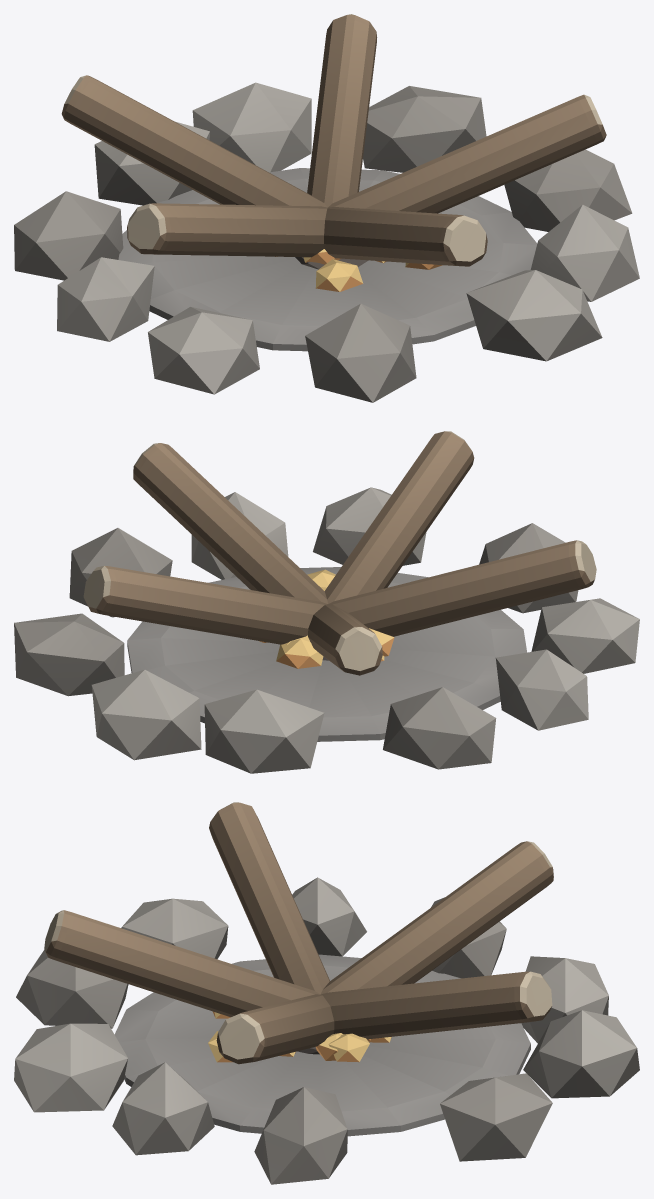
File: campfire.glb
The picture shows the model from 3 angles, top to bottom: view 1: azimuth 30°, elevation 25°; view 2: azimuth 150°, elevation 25°; view 3: azimuth 270°, elevation 25°; orthographic projection. The views are drawn at different scales.
Parts seen in each view (by area): view 1: campfire; view 2: campfire; view 3: campfire.
Boxes of the visible parts, <box> form: campfire: <box>14,14,639,402</box>; campfire: <box>14,431,639,773</box>; campfire: <box>14,802,639,1184</box>.
Size of the model in its own units: 1.08 by 0.2676 by 1.07.
